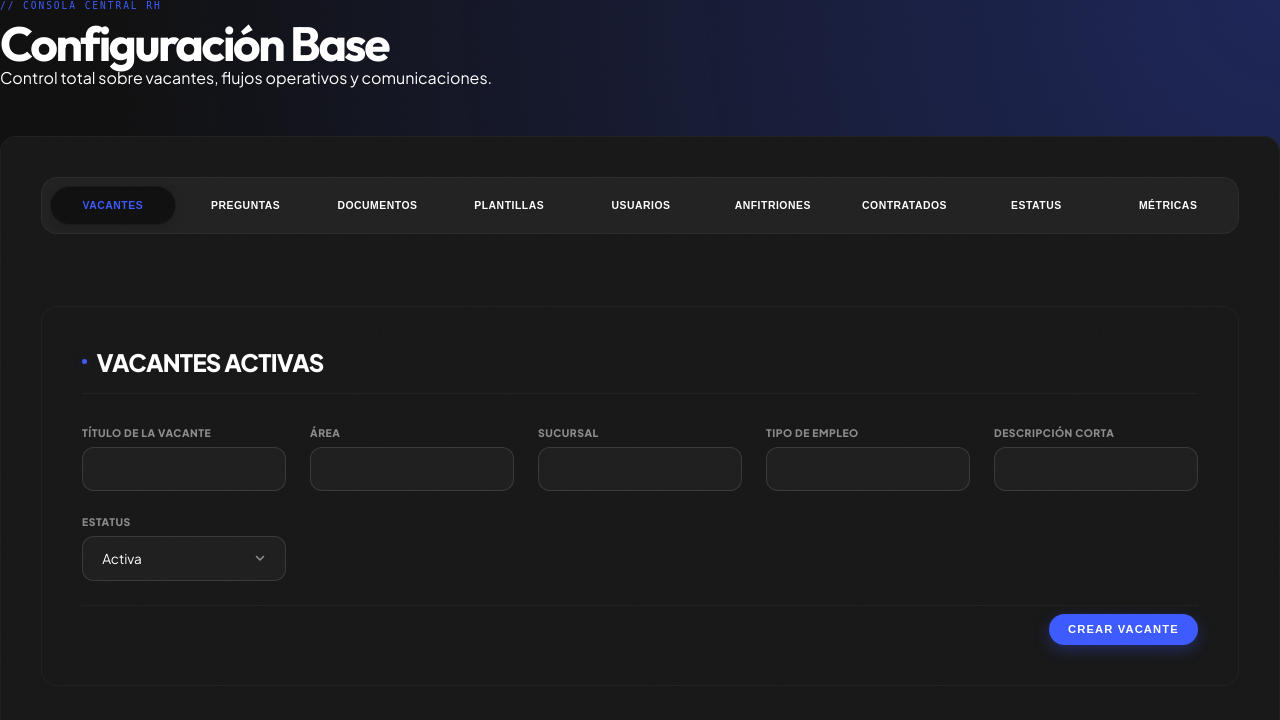
Scenario: CrmAdmin › cambia a pestaña Usuarios
Click the button "Usuarios": (641, 205) [579,186,703,225]
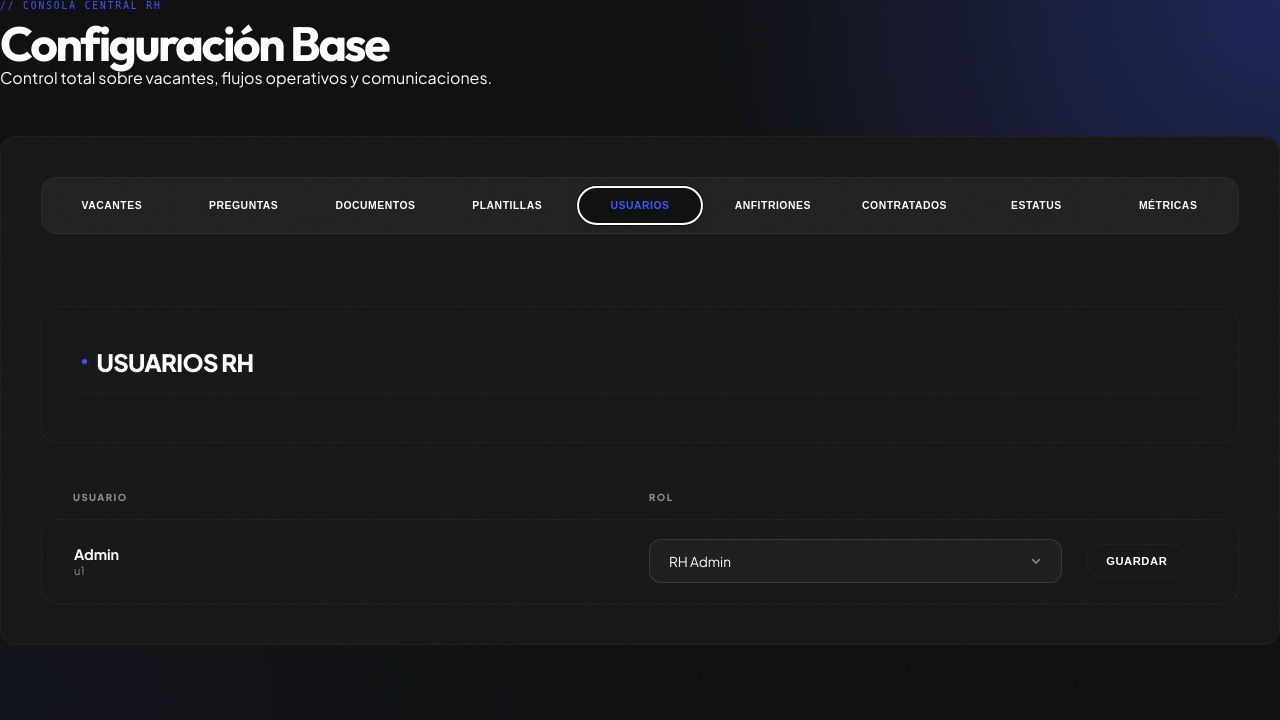
Check: the text "Admin" is shown, box [74,545,119,563]
